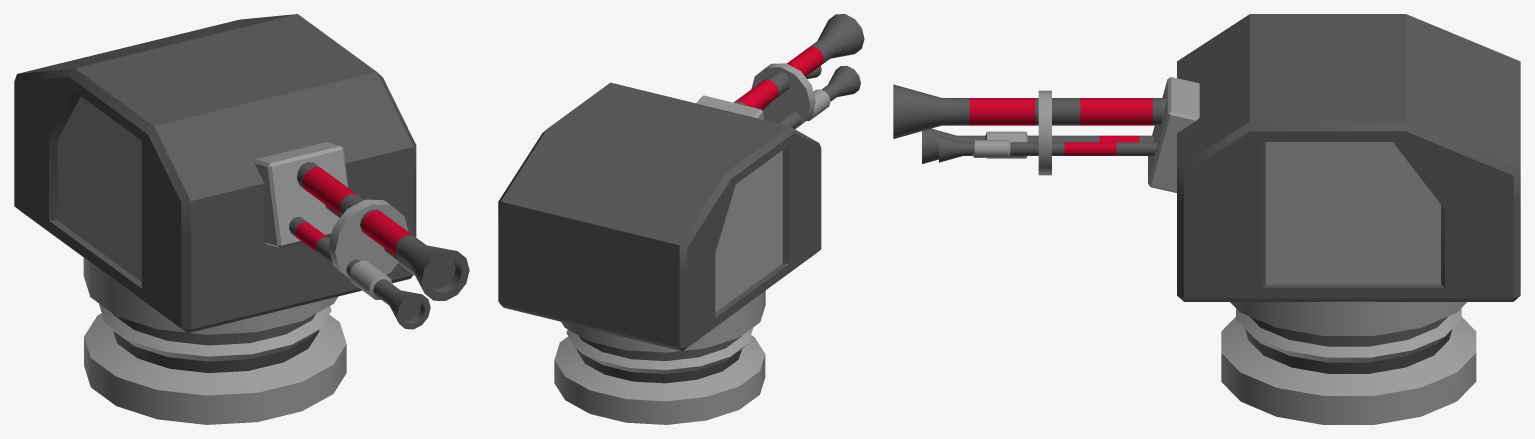
File: Turret_Standard.fbx
3 views of the same model, side by side, from view 1: azimuth 30°, elevation 25°; view 2: azimuth 150°, elevation 25°; view 3: azimuth 270°, elevation 25° (orthographic). The views are drawn at different scales.
Visible parts, largest first — view 1: Head, Base; view 2: Head, Base; view 3: Head, Base.
Part boxes in pixels (x1=…): Head: x1=14, y1=14, x2=469, y2=333; Base: x1=83, y1=258, x2=346, y2=424; Head: x1=498, y1=14, x2=864, y2=351; Base: x1=554, y1=290, x2=765, y2=424; Head: x1=893, y1=14, x2=1520, y2=301; Base: x1=1221, y1=301, x2=1476, y2=424.
Bounding box in the file's own units: 206 × 258 × 483.
